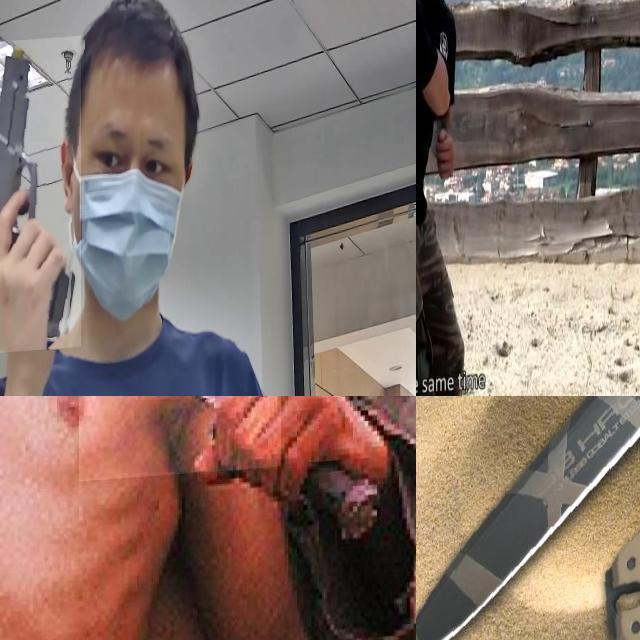-: (416, 396, 640, 640), (79, 396, 280, 512), (416, 0, 435, 63)
gun-knife-thesis - v11 Yolov5 augmented: (0, 40, 81, 357)
